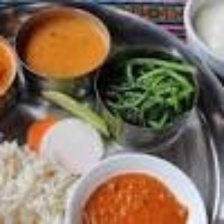sabzi: (74, 168, 194, 224)
